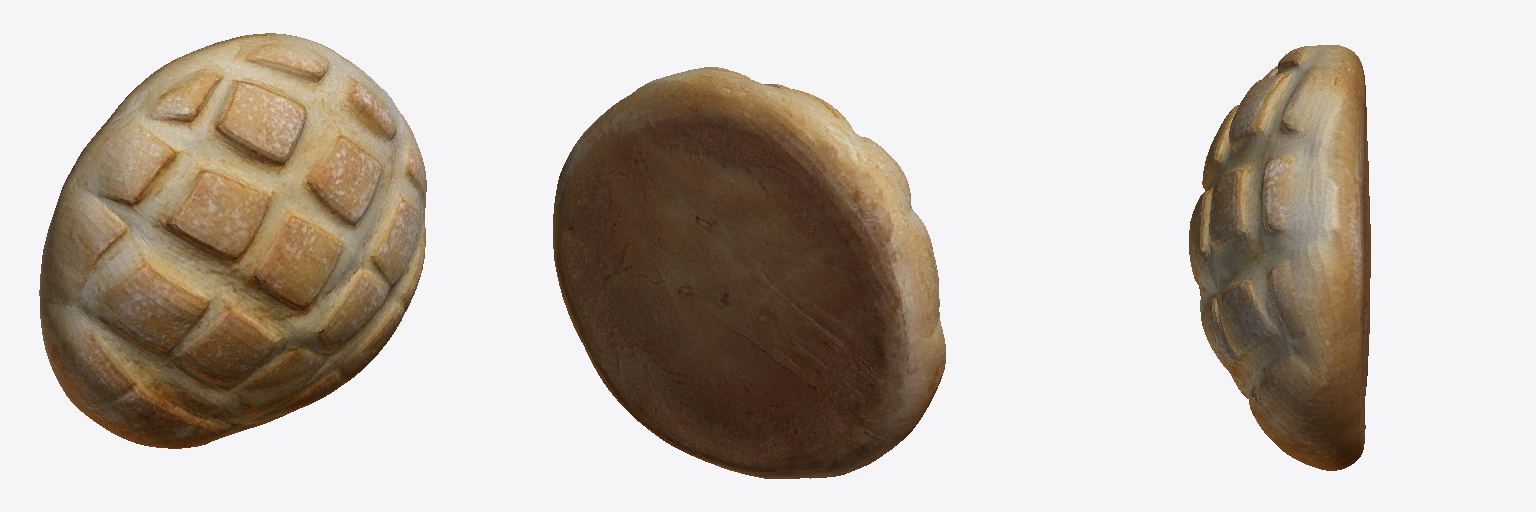
3 views of the same model, side by side, from view 1: azimuth 30°, elevation 25°; view 2: azimuth 150°, elevation 25°; view 3: azimuth 270°, elevation 25° (orthographic).
Parts seen in each view (by area): view 1: BreadRoll1; view 2: BreadRoll1; view 3: BreadRoll1.
Part boxes in pixels (bbox=[...]): BreadRoll1: bbox=[39, 33, 426, 448]; BreadRoll1: bbox=[553, 67, 945, 478]; BreadRoll1: bbox=[1189, 45, 1370, 470].
Size of the model in its own units: 0.1359 by 0.1342 by 0.0572.
1 materials, 1 textured.